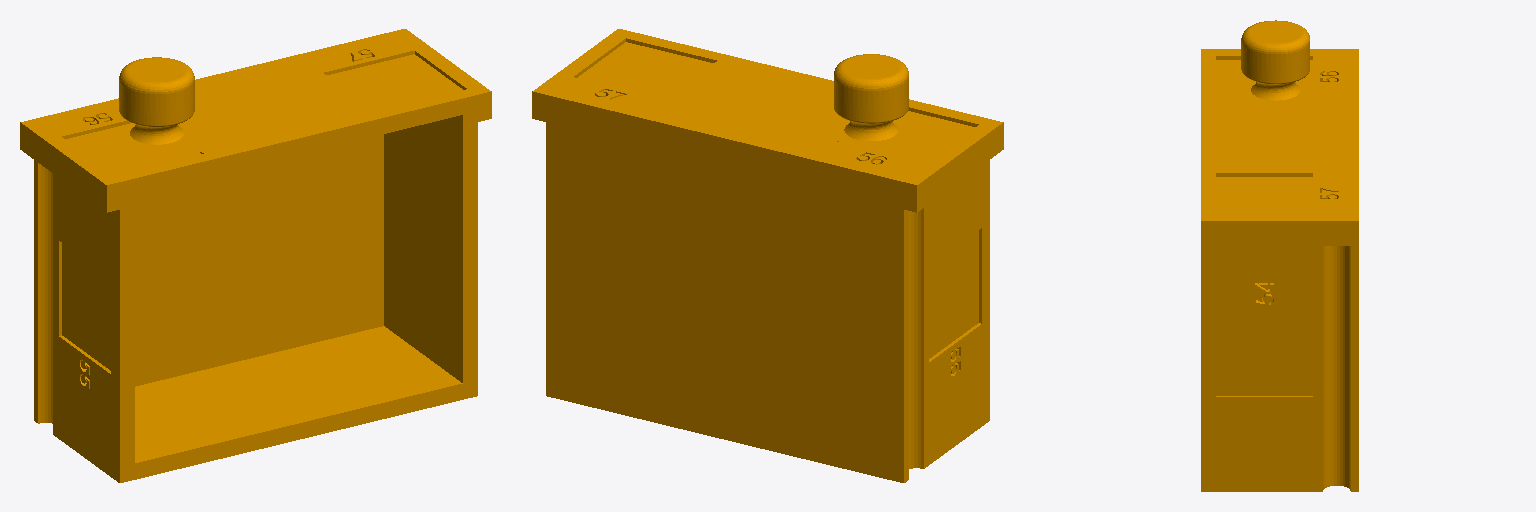
robot.urdf — drawer_top_2:
<?xml version="1.0"?>
<robot name="drawer_top_2">
    <link name="drawer_top_2">
        <visual>
            <geometry>
                <mesh filename="../../mesh/drawer/drawer_top_2.obj" scale="1 1 1"/>
            </geometry>
        </visual>
        <collision>
            <geometry>
                <mesh filename="../../mesh/drawer/drawer_top_2.obj" scale="1 1 1"/>
            </geometry>
            <sdf resolution="512"/>
        </collision>
    </link>
</robot>

--- What the picture shows (computed from the rendered views, not written in the file) ---
The picture shows the robot from 3 angles, left to right: view 1: azimuth 30°, elevation 25°; view 2: azimuth 150°, elevation 25°; view 3: azimuth 270°, elevation 25°; orthographic projection.
Robot: drawer_top_2 — 1 links, 0 joints (none); root link drawer_top_2; default pose: every joint at zero.
Visible links, largest first — view 1: drawer_top_2; view 2: drawer_top_2; view 3: drawer_top_2.
Boxes of the visible links, <box> form: drawer_top_2: <box>20,29,491,482</box>; drawer_top_2: <box>532,29,1003,482</box>; drawer_top_2: <box>1201,20,1358,491</box>.
Size in the robot's own frame: 0.1103 by 0.0428 by 0.0997 metres.
Meshes: 1 distinct files referenced, 1 mesh visuals loaded (1 OBJ).